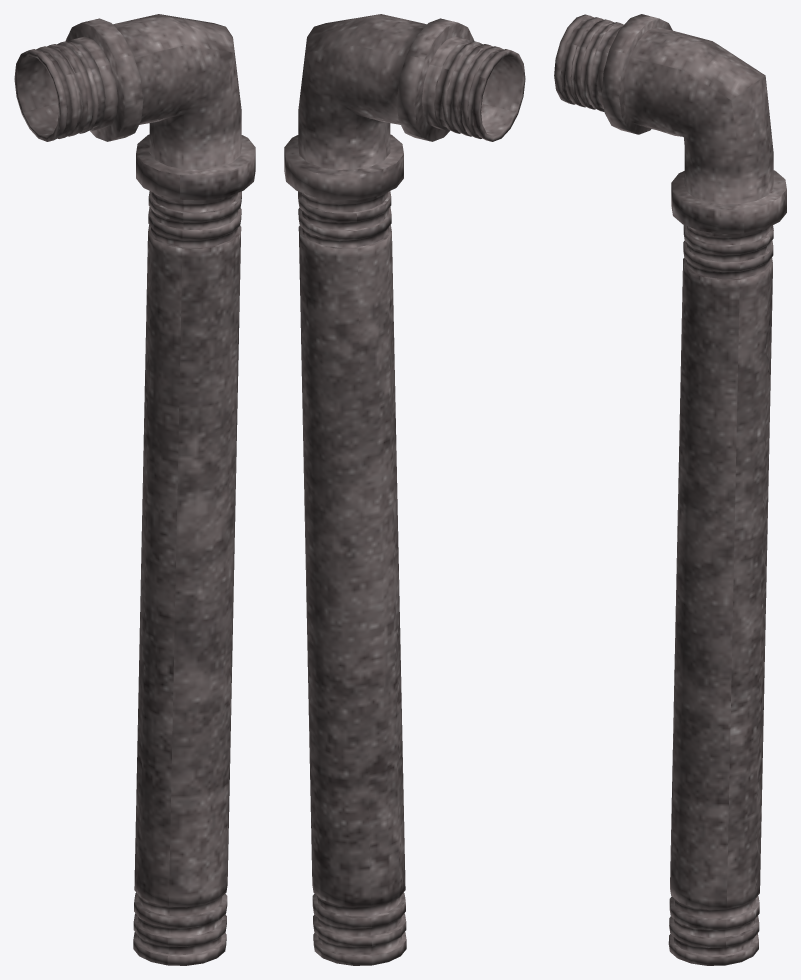
The picture shows the model from 3 angles, left to right: view 1: azimuth 30°, elevation 25°; view 2: azimuth 150°, elevation 25°; view 3: azimuth 330°, elevation 25°; orthographic projection. The views are drawn at different scales.
Visible parts, largest first — view 1: Cylinder; view 2: Cylinder; view 3: Cylinder.
Boxes of the visible parts, box(x1,y1,x2,y2) form: Cylinder: box(14, 14, 255, 965); Cylinder: box(284, 14, 525, 965); Cylinder: box(554, 14, 786, 965).
Size of the model in its own units: 0.9988 by 4.26 by 0.5043.
Materials: 1 (1 with a texture image).
